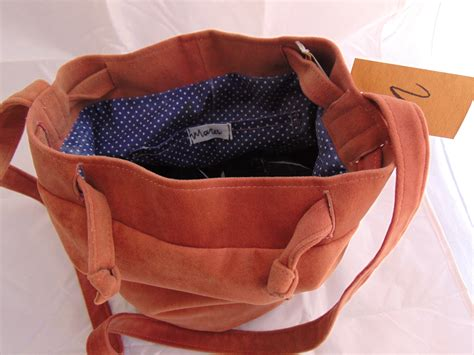gamuza: (1, 29, 427, 355)
